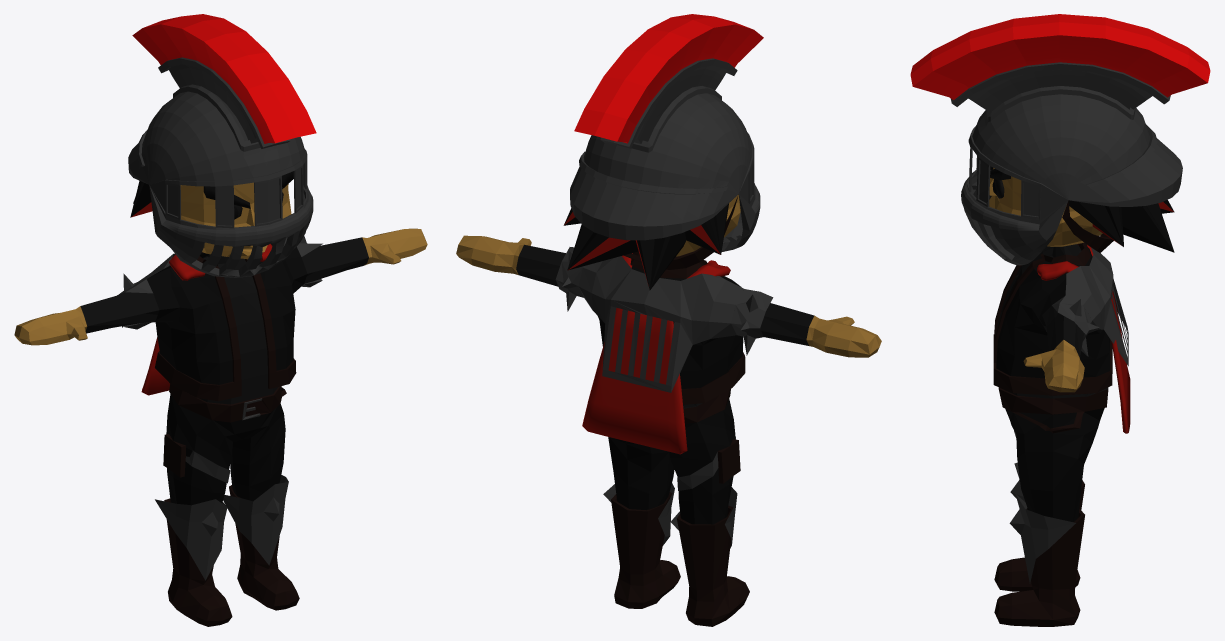
File: WARRIOR ONLY.FBX
The picture shows the model from 3 angles, left to right: view 1: azimuth 30°, elevation 25°; view 2: azimuth 150°, elevation 25°; view 3: azimuth 270°, elevation 25°; orthographic projection. The views are drawn at different scales.
Parts seen in each view (by area): view 1: HEAD HELMEt, Character, JackHekmet, Boothelmet, Leg Strap, Cape; view 2: HEAD HELMEt, Character, JackHekmet, Cape, Leg Strap, Boothelmet; view 3: HEAD HELMEt, Character, JackHekmet, Boothelmet, Cape.
Boxes of the visible parts, left/top/right/bottom form: HEAD HELMEt: left=128, top=14, right=316, bottom=277; Character: left=14, top=180, right=427, bottom=626; JackHekmet: left=117, top=236, right=322, bottom=401; Boothelmet: left=155, top=475, right=288, bottom=580; Leg Strap: left=163, top=434, right=230, bottom=483; Cape: left=141, top=244, right=272, bottom=395; HEAD HELMEt: left=570, top=14, right=763, bottom=269; Character: left=456, top=194, right=881, bottom=626; JackHekmet: left=555, top=247, right=773, bottom=404; Cape: left=582, top=253, right=730, bottom=454; Leg Strap: left=677, top=437, right=740, bottom=490; Boothelmet: left=603, top=483, right=737, bottom=548; HEAD HELMEt: left=910, top=14, right=1210, bottom=265; Character: left=989, top=168, right=1174, bottom=626; JackHekmet: left=993, top=242, right=1128, bottom=395; Boothelmet: left=1009, top=462, right=1075, bottom=583; Cape: left=1037, top=244, right=1130, bottom=433.
Bounding box in the file's own units: 13.21 × 17.44 × 8.16.
